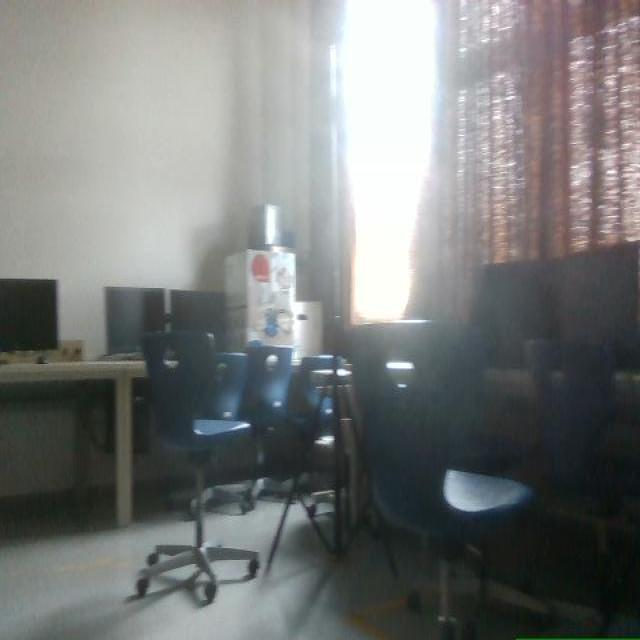objects: (351, 322, 532, 639), (137, 332, 258, 602)
